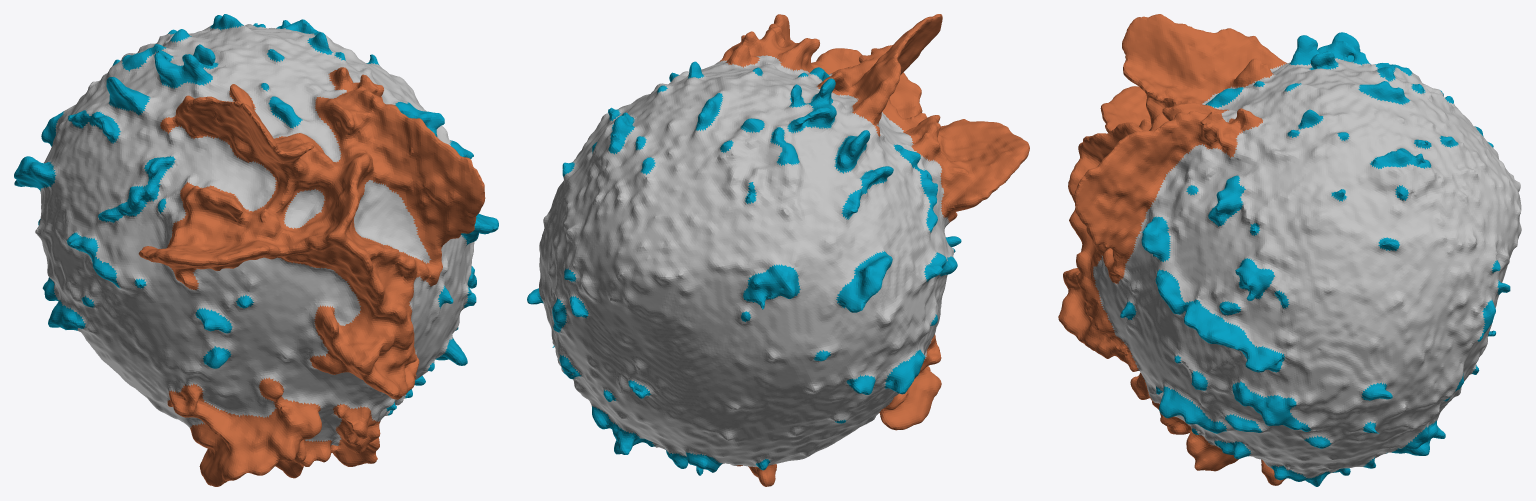
3 renders of one model, left to right at view 1: azimuth 30°, elevation 25°; view 2: azimuth 150°, elevation 25°; view 3: azimuth 270°, elevation 25°, orthographic. The views are drawn at different scales.
Bounding box in the file's own units: 153 × 165 × 165.
